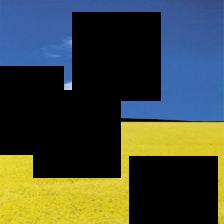yellow: (1, 123, 224, 224)
